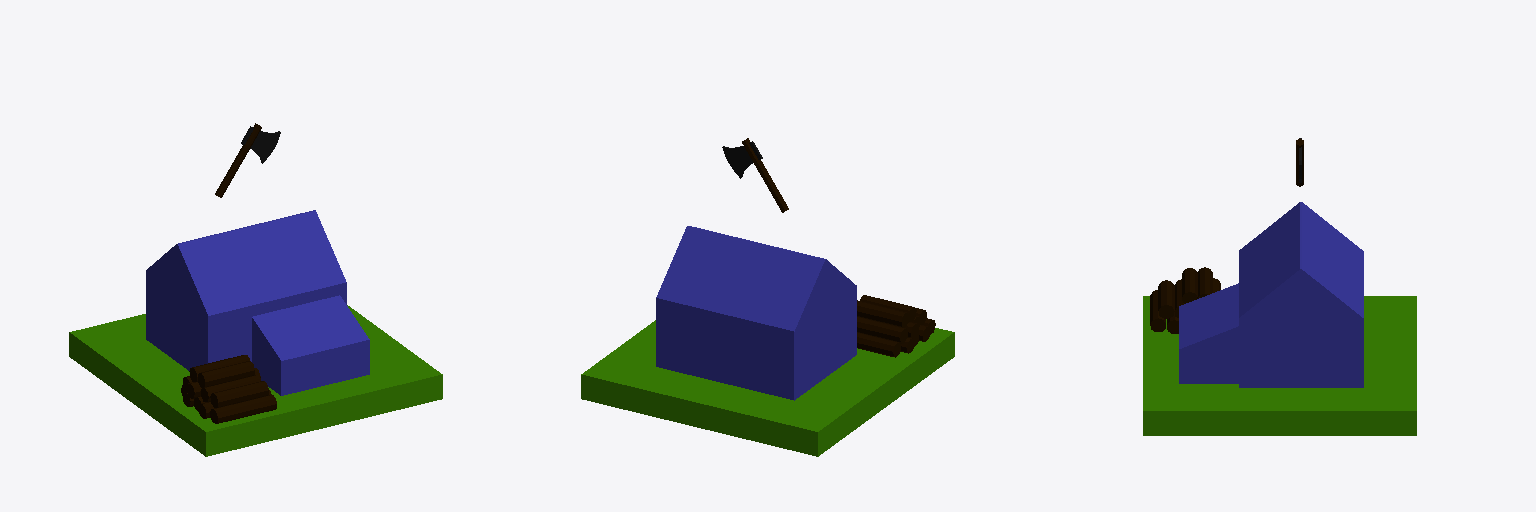
File: Woodworker3.obj
3 views of the same model, side by side, from view 1: azimuth 30°, elevation 25°; view 2: azimuth 150°, elevation 25°; view 3: azimuth 270°, elevation 25° (orthographic).
Visible parts, largest first — view 1: Box001, Tilebase006, Cylinder010, Cylinder013, Cylinder016, Box690, Cylinder005; view 2: Box001, Tilebase006, Cylinder015, Cylinder014, Cylinder006, Box690, Cylinder005; view 3: Box001, Tilebase006, Cylinder013.
Part boxes in pixels (bbox=[...]): Box001: bbox=[146, 210, 369, 395]; Tilebase006: bbox=[69, 305, 442, 456]; Cylinder010: bbox=[210, 395, 276, 423]; Cylinder013: bbox=[210, 381, 268, 407]; Cylinder016: bbox=[198, 361, 254, 387]; Box690: bbox=[241, 126, 280, 163]; Cylinder005: bbox=[215, 123, 261, 197]; Box001: bbox=[656, 226, 856, 400]; Tilebase006: bbox=[581, 320, 954, 456]; Cylinder015: bbox=[857, 300, 909, 327]; Cylinder014: bbox=[857, 317, 907, 343]; Cylinder006: bbox=[857, 332, 900, 357]; Box690: bbox=[722, 141, 762, 178]; Cylinder005: bbox=[742, 138, 788, 212]; Box001: bbox=[1179, 202, 1363, 387]; Tilebase006: bbox=[1143, 296, 1416, 435]; Cylinder013: bbox=[1158, 280, 1174, 318].
Size of the model in its own units: 10 by 9.86 by 10.